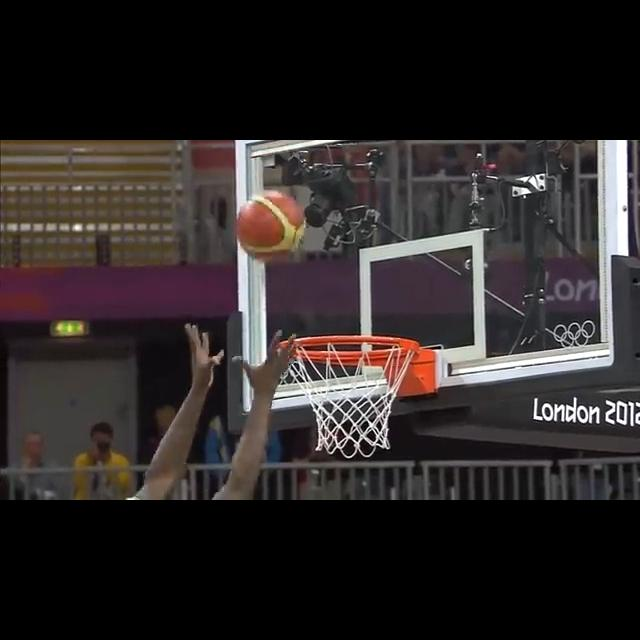basketball: (234, 190, 310, 260)
hoop: (269, 329, 423, 462)
